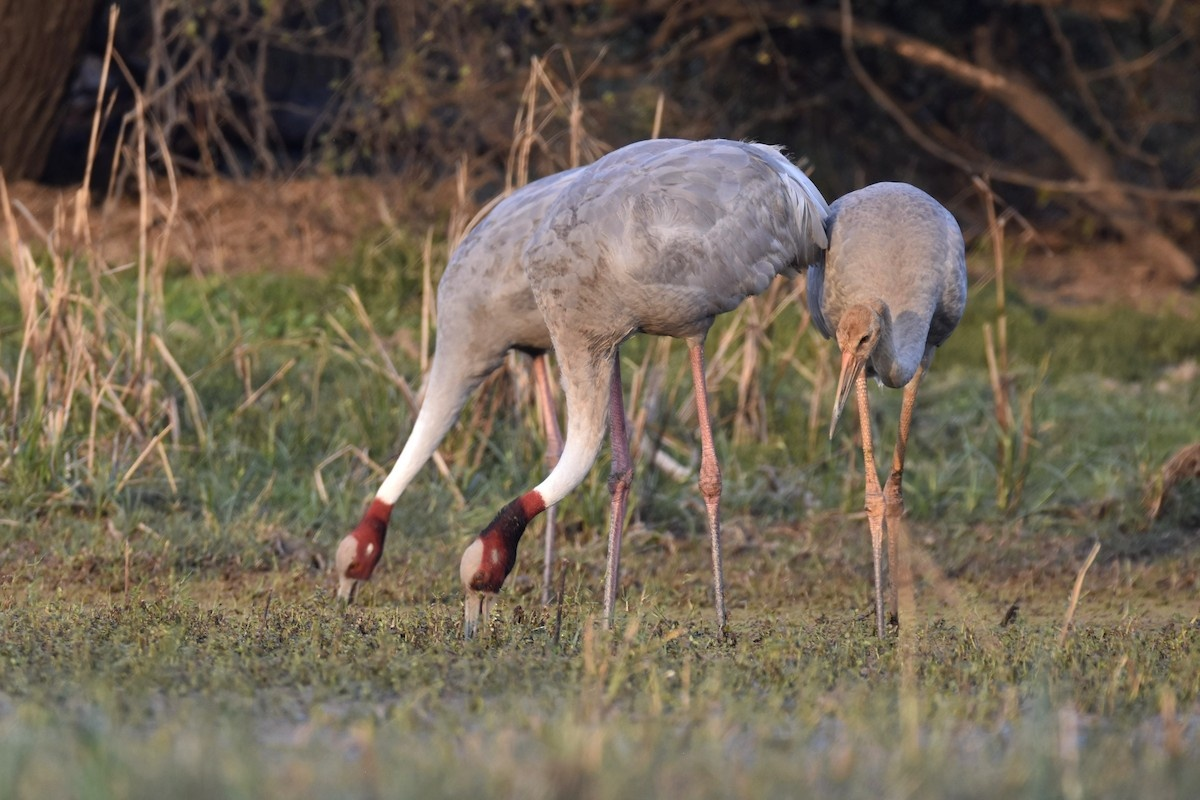crane: (456, 144, 823, 641), (790, 170, 981, 658), (324, 228, 535, 614)
